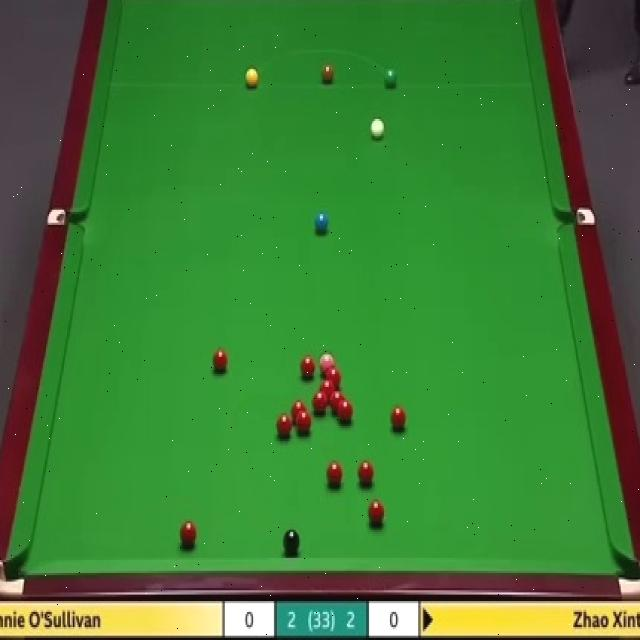black-ball: (283, 526, 300, 556)
blue-ball: (313, 210, 329, 236)
brown-ball: (321, 66, 334, 84)
green-ball: (384, 68, 397, 88)
pink-ball: (319, 352, 336, 371)
red-ball: (367, 499, 385, 528), (299, 354, 317, 381), (180, 521, 198, 548), (390, 406, 408, 431), (326, 462, 344, 485), (296, 410, 313, 434), (357, 461, 374, 485), (338, 398, 354, 423), (212, 347, 228, 372), (277, 414, 292, 436), (311, 392, 328, 411), (290, 398, 306, 417), (318, 379, 337, 394), (330, 391, 345, 410), (325, 368, 343, 381)
white-ball: (368, 115, 386, 139)
yellow-ball: (244, 66, 260, 89)
